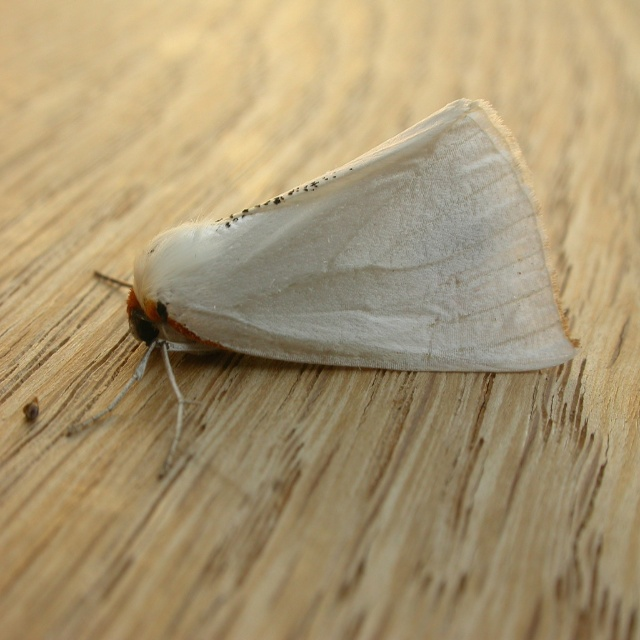Moths and butterflies: (64, 96, 580, 481)
